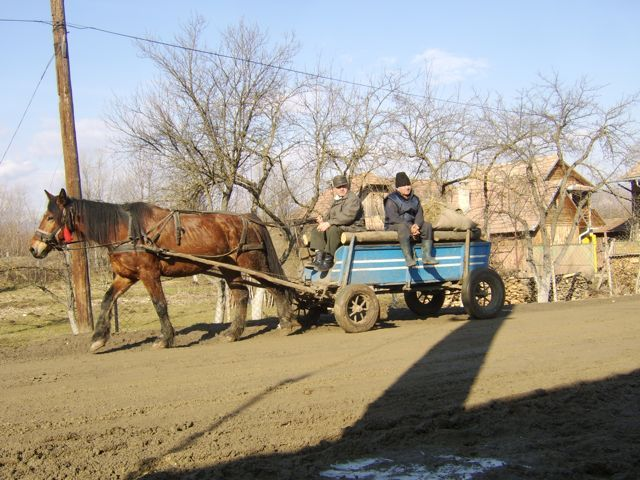horse: (29, 187, 296, 355)
